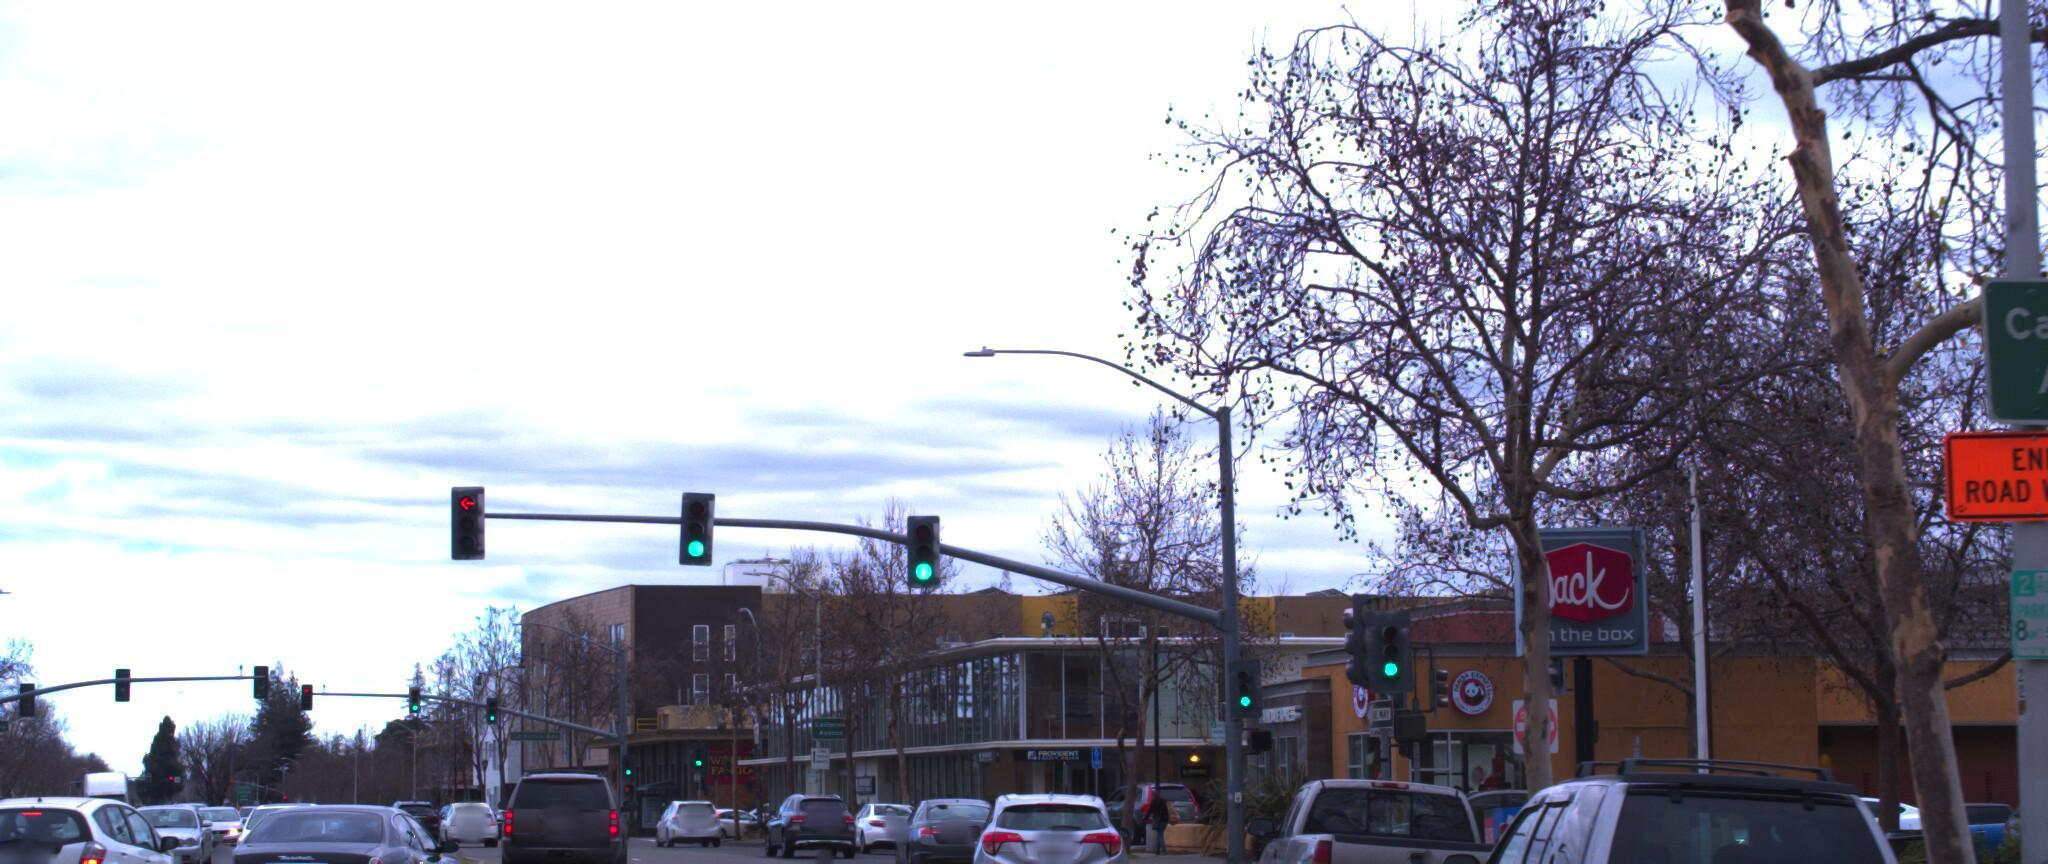car: (1398, 724, 1951, 864), (1243, 753, 1522, 864), (174, 780, 505, 864), (0, 765, 219, 864), (500, 740, 640, 864), (960, 770, 1127, 864), (879, 780, 1004, 864), (226, 775, 353, 857), (758, 766, 859, 838), (0, 754, 57, 864)
